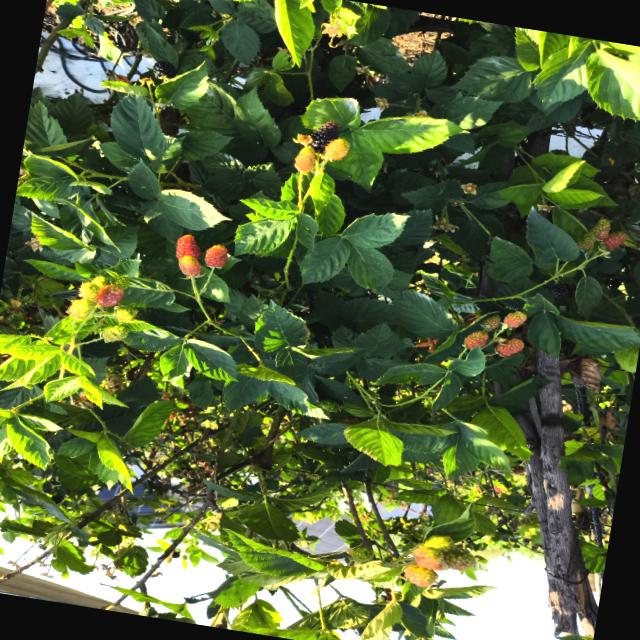maduro: (153, 61, 176, 79), (552, 283, 573, 299)
marron: (311, 121, 339, 153)
naranja: (95, 284, 124, 307), (176, 235, 201, 260), (205, 245, 228, 268), (496, 338, 525, 356), (179, 256, 202, 277), (464, 331, 488, 349), (503, 311, 527, 328), (604, 232, 628, 249)
verde: (414, 545, 448, 570), (404, 565, 438, 587), (445, 549, 477, 571), (67, 298, 97, 319), (324, 139, 350, 161), (294, 147, 316, 172), (100, 325, 129, 342), (424, 536, 455, 551), (577, 230, 597, 251), (79, 282, 100, 301), (593, 218, 611, 240), (114, 307, 138, 322), (480, 314, 501, 331)
